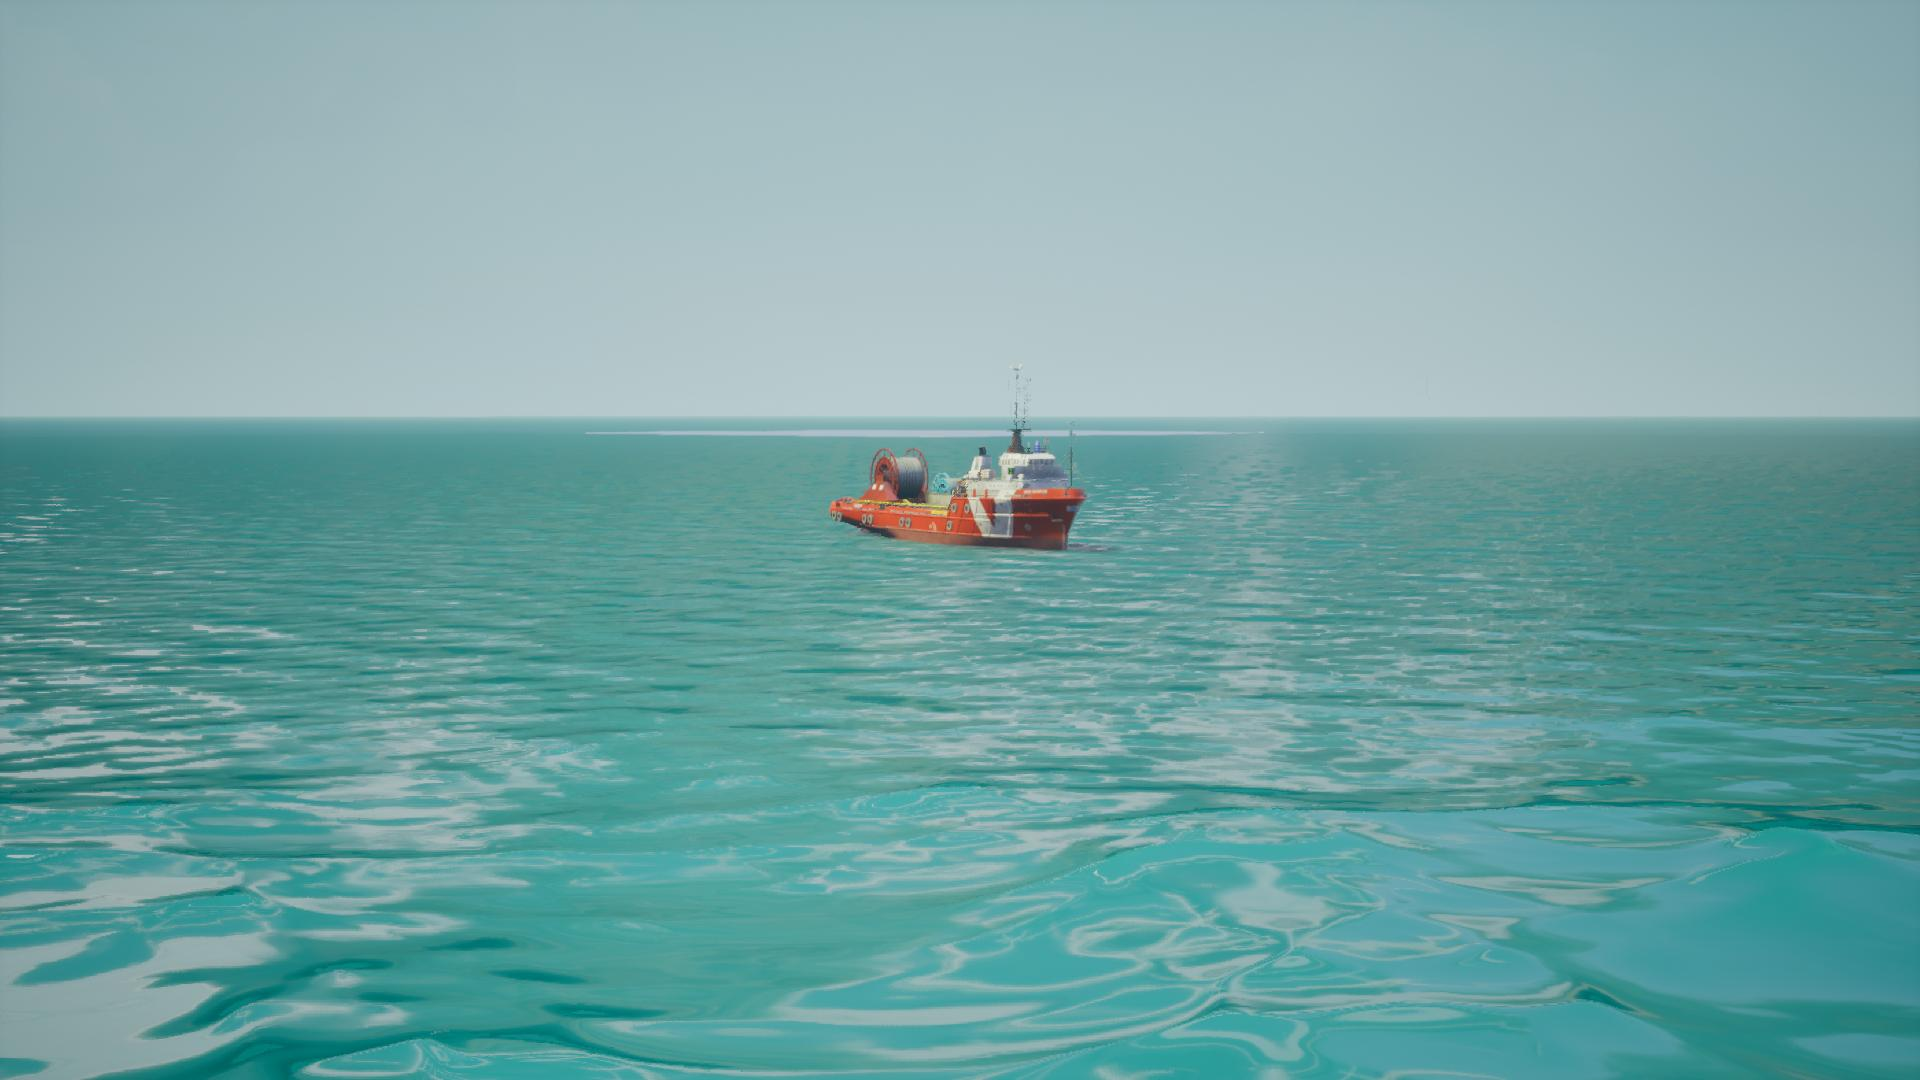Tug Boat: (831, 365, 1092, 555)
